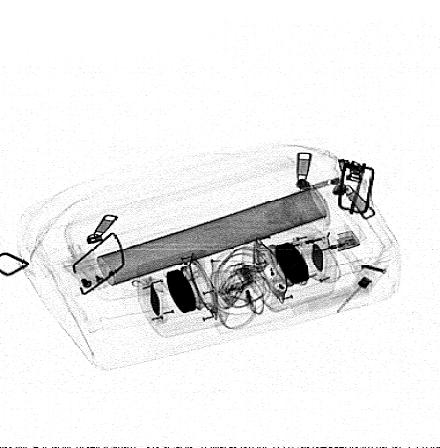Lighter: (264, 223, 361, 266)
